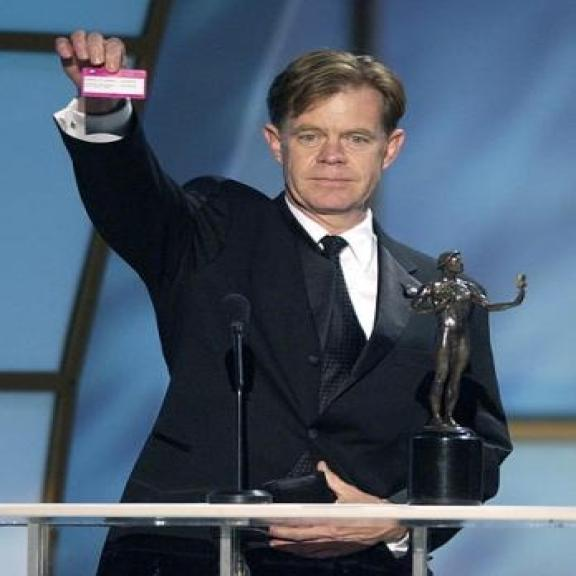face: (265, 90, 410, 216)
